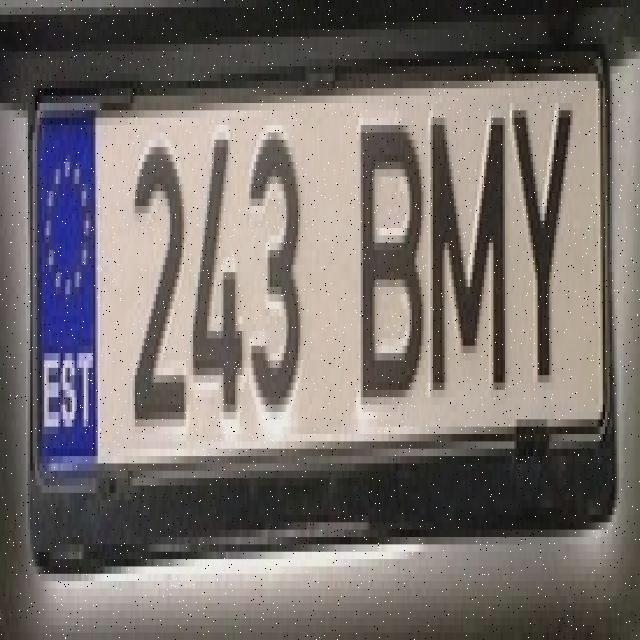LicensePlate: (17, 32, 630, 616)
